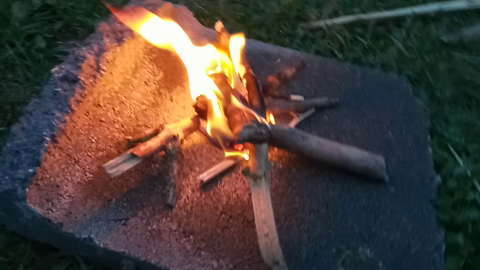fire: (101, 1, 262, 147)
